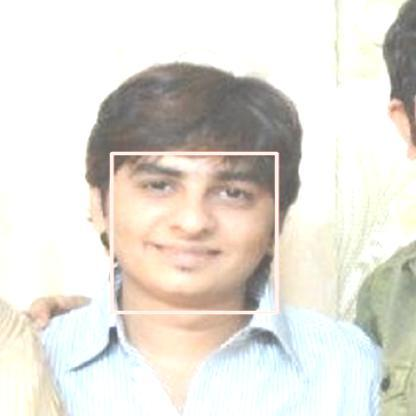without_mask: (111, 153, 276, 312)
